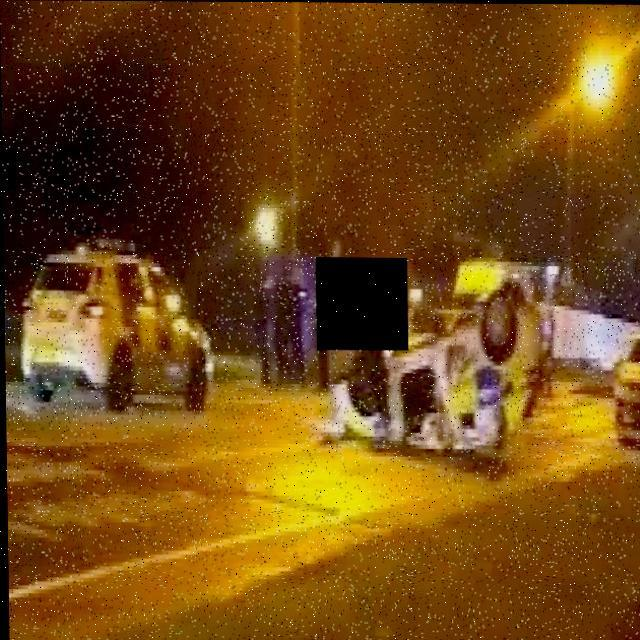normal: (7, 192, 213, 430)
single accident: (268, 198, 557, 487)
